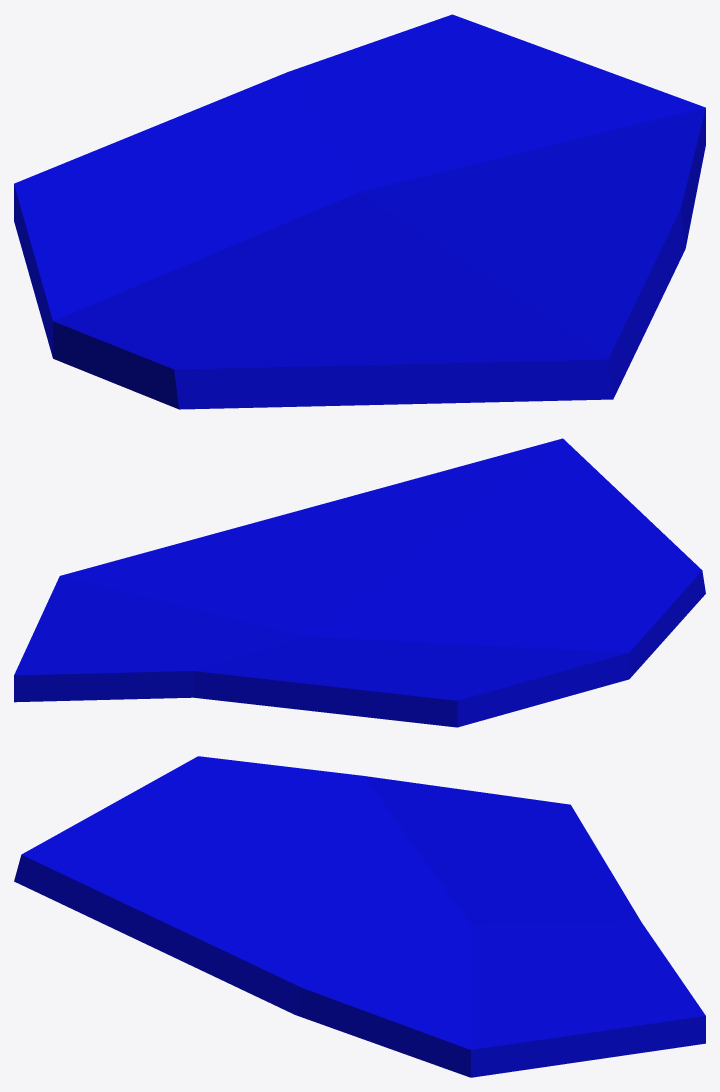
Rendered from komono25.fbx.
3 views of the same model, one above another, from view 1: azimuth 30°, elevation 25°; view 2: azimuth 150°, elevation 25°; view 3: azimuth 270°, elevation 25° (orthographic). The views are drawn at different scales.
Parts seen in each view (by area): view 1: Cube.002; view 2: Cube.002; view 3: Cube.002.
Boxes of the visible parts, x1,y1,x2,y2 form: Cube.002: (14,14,705,409); Cube.002: (14,438,705,727); Cube.002: (14,756,705,1077).
Bounding box in the file's own units: 349 × 48.61 × 389.
